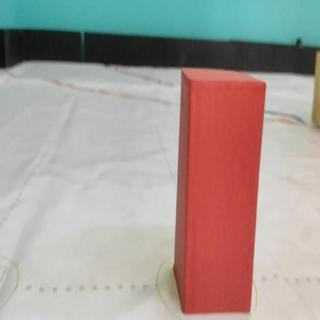redbox: (178, 70, 265, 312)
